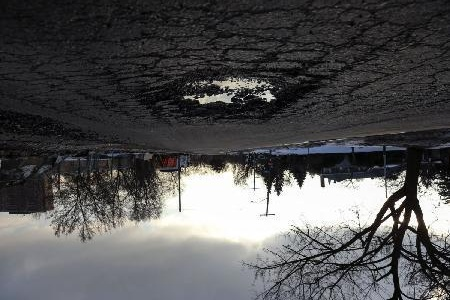pothole: (155, 67, 316, 121)
